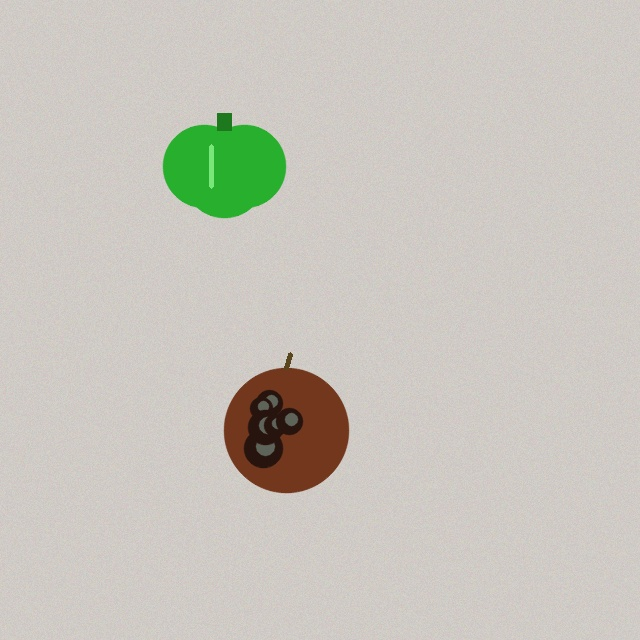Fresh bell pepper: (163, 113, 285, 217)
Rotten apple: (224, 354, 348, 492)
